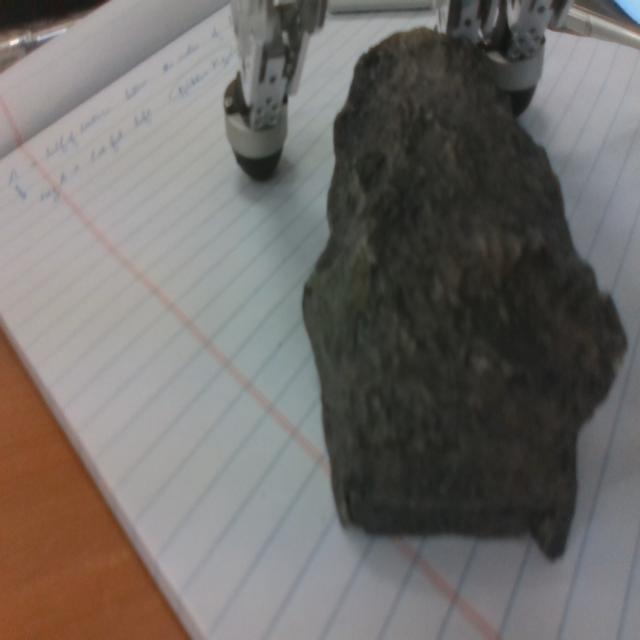stone: (302, 28, 627, 562)
